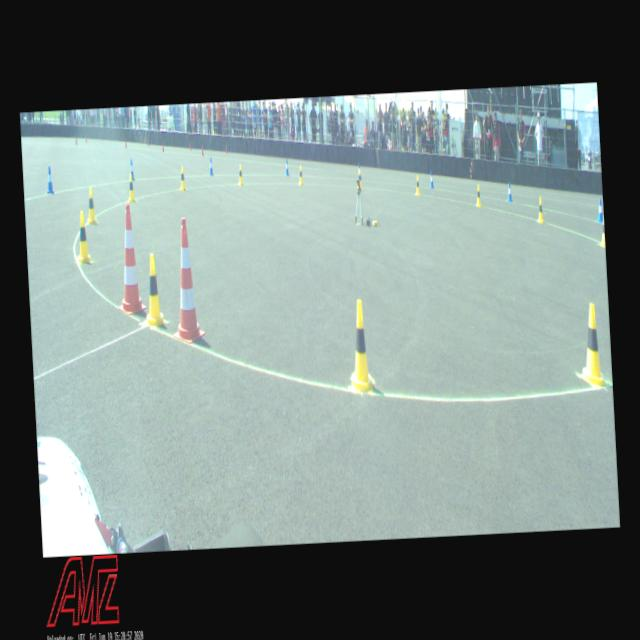blue_cone: (46, 166, 54, 195), (596, 198, 604, 224), (128, 158, 136, 182), (506, 182, 513, 202), (208, 157, 214, 177), (284, 158, 290, 176), (357, 162, 362, 180), (430, 170, 434, 190)
large_orange_cone: (167, 216, 205, 345), (112, 203, 147, 316)
yellow_cone: (576, 303, 608, 388), (347, 298, 373, 394), (141, 252, 167, 328), (75, 210, 92, 264), (85, 186, 98, 225), (126, 174, 136, 203), (178, 166, 188, 192), (598, 214, 605, 247), (536, 196, 544, 224), (474, 185, 482, 208), (297, 164, 304, 187), (414, 174, 421, 197), (237, 164, 244, 186), (356, 167, 363, 189)
